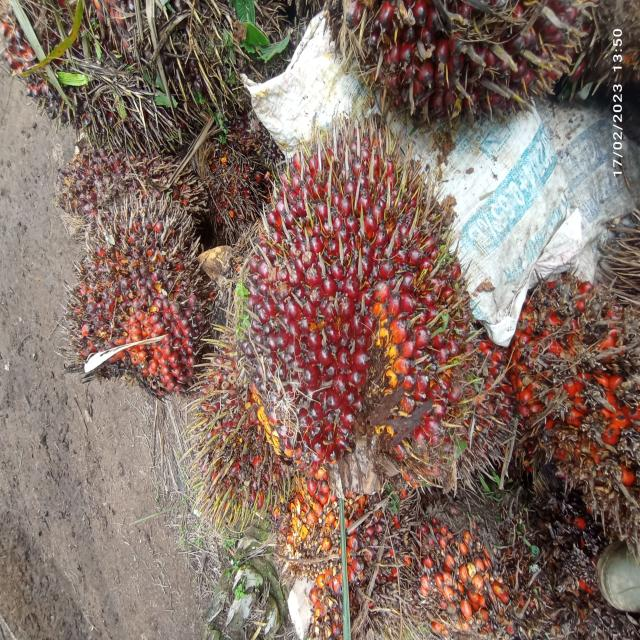fraksi 3: (205, 85, 525, 516)
fraksi 4: (488, 246, 640, 553), (45, 179, 228, 431), (264, 489, 410, 640), (407, 504, 532, 640)
